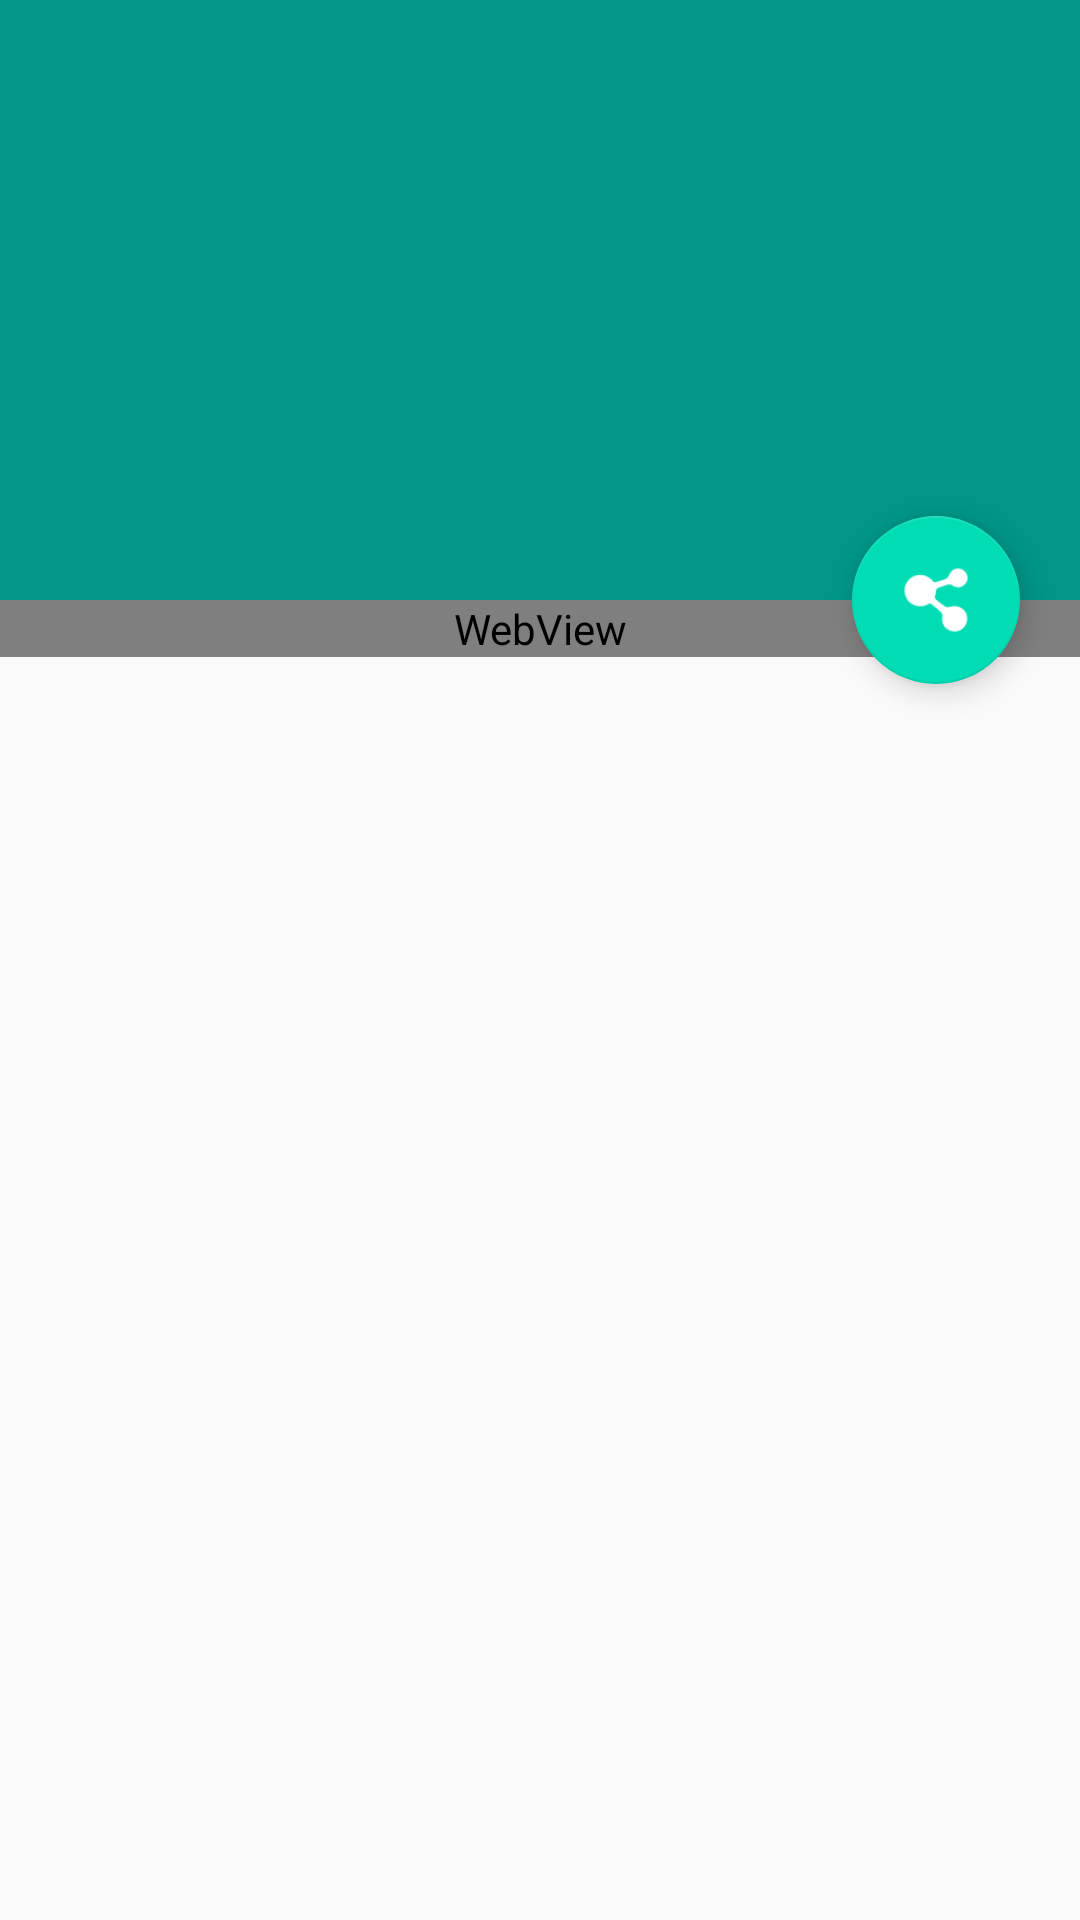

Named icons in this screenshot (1080 x 1920) and their centers, (x,y):
share: (936,600)
